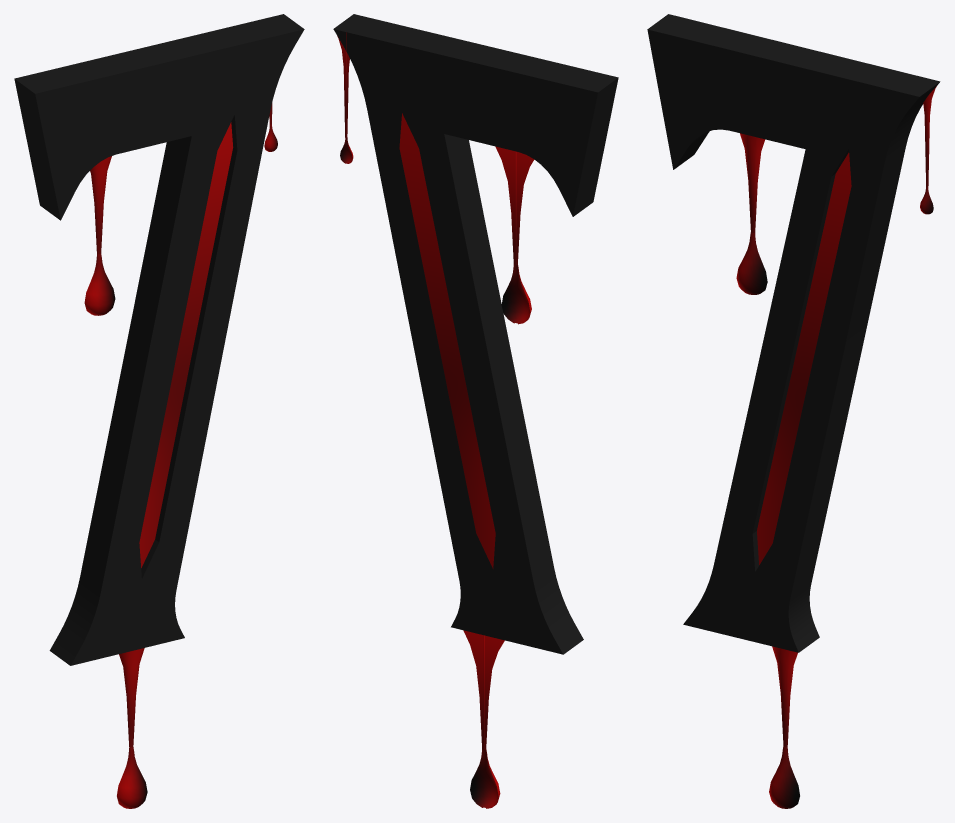
The picture shows the model from 3 angles, left to right: view 1: azimuth 30°, elevation 25°; view 2: azimuth 150°, elevation 25°; view 3: azimuth 330°, elevation 25°; orthographic projection. The views are drawn at different scales.
Visible parts, largest first — view 1: 7, 7_Element, Blood_293, Blood_291; view 2: 7, 7_Element, Blood_293, Blood_291, Blood_292; view 3: 7, 7_Element, Blood_293, Blood_291, Blood_292.
Part boxes in pixels (x1,y1,x2,y2): 7: [14, 14, 304, 665]; 7_Element: [139, 122, 233, 567]; Blood_293: [117, 648, 147, 808]; Blood_291: [84, 156, 115, 315]; 7: [333, 14, 618, 654]; 7_Element: [399, 113, 495, 568]; Blood_293: [463, 630, 504, 808]; Blood_291: [495, 146, 534, 324]; Blood_292: [337, 32, 353, 163]; 7: [647, 14, 940, 652]; 7_Element: [757, 152, 851, 564]; Blood_293: [769, 646, 799, 808]; Blood_291: [736, 133, 767, 294]; Blood_292: [920, 86, 936, 214].
Bounding box in the file's own units: 37.3 × 100 × 5.01.
Materials: 2 (1 with a texture image).
